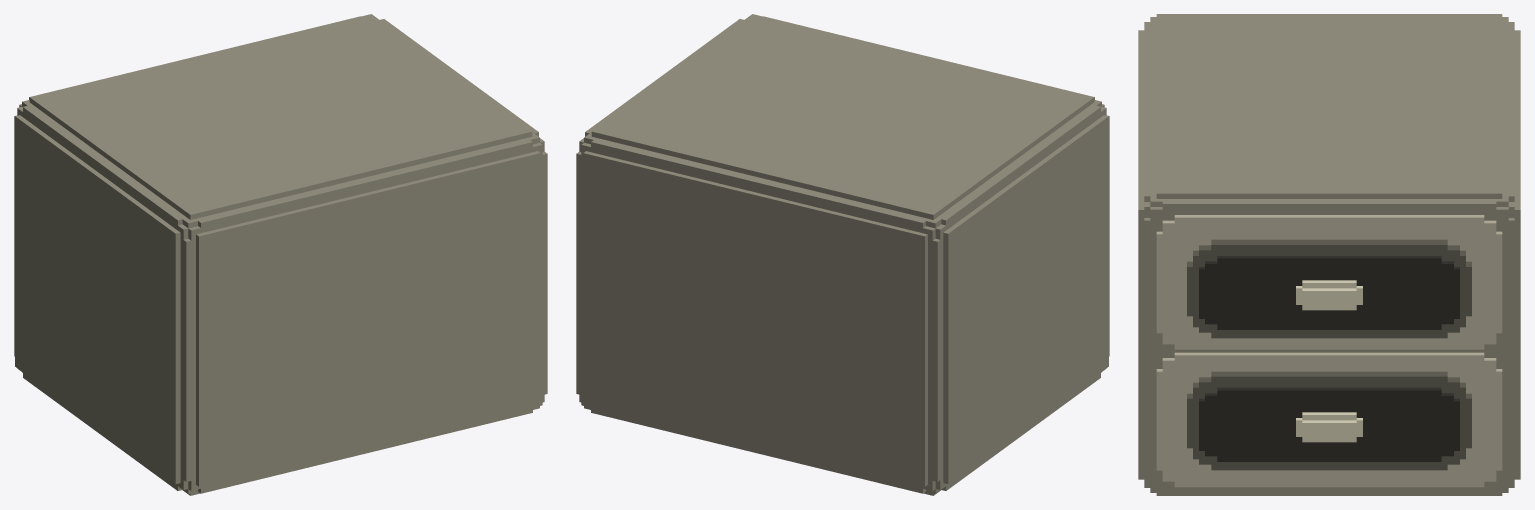
Rendered from factory4.5-15.obj.
3 renders of one model, left to right at view 1: azimuth 30°, elevation 25°; view 2: azimuth 150°, elevation 25°; view 3: azimuth 270°, elevation 25°, orthographic. The views are drawn at different scales.
Size of the model in its own units: 8.1 by 5.5 by 6.3.
Materials: 1 (1 with a texture image).
